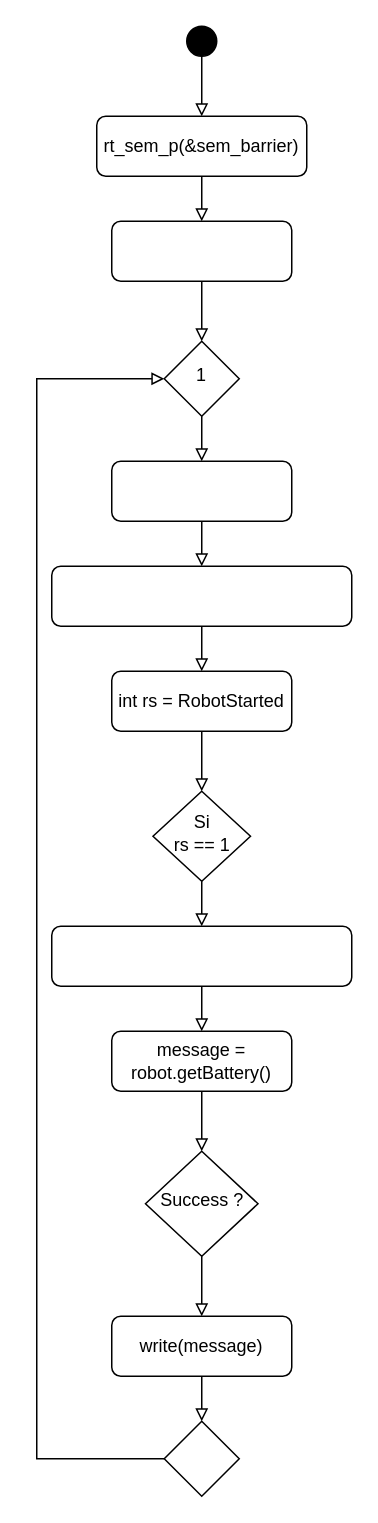
This 378x1523 diagram has some shape labels left out. Here are the shapes that lost their labels. From the top down, the box of each, then its label:
(110, 220, 292, 281): Set_period(500)
(110, 460, 292, 521): wait_period()
(50, 565, 352, 626): mutex_acquire(&mutex_robotStarted)
(50, 925, 352, 986): mutex_release(&mutex_robotStarted)
